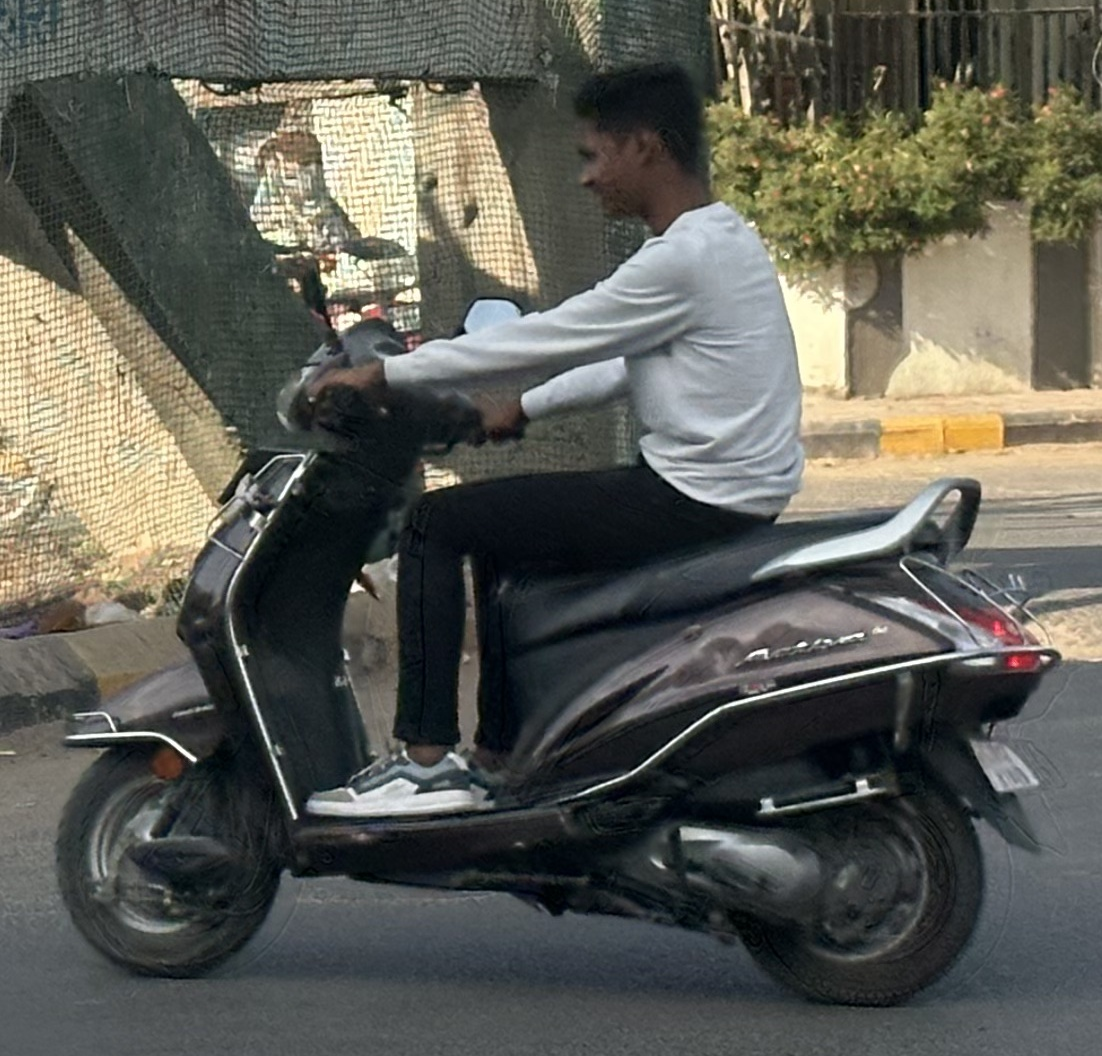BikeWithRider: (33, 47, 1070, 1014)
NoHelmet: (563, 55, 720, 231)
